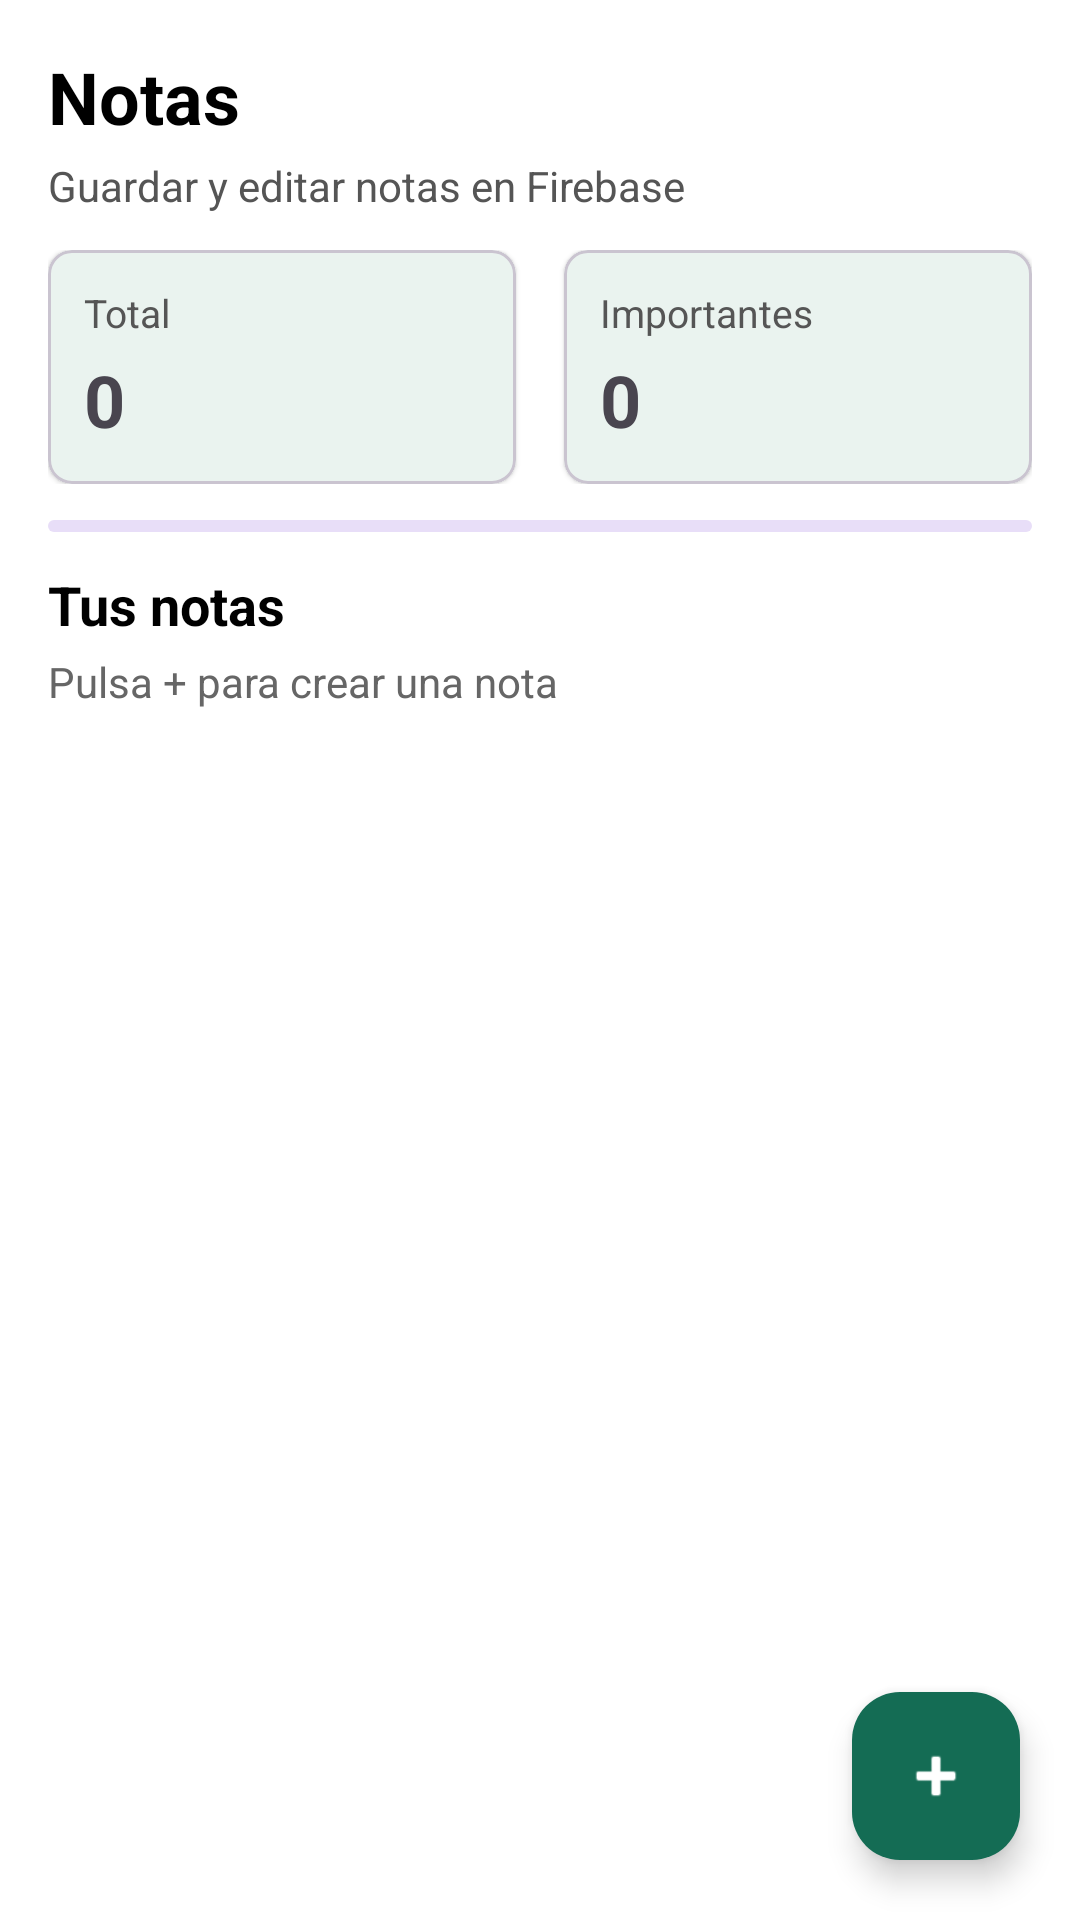

Screen size 1080 x 1920. Icon name, then its box in pixels as (x1, y1, x2, y2):
Agregar nota: (852, 1692, 1020, 1860)
